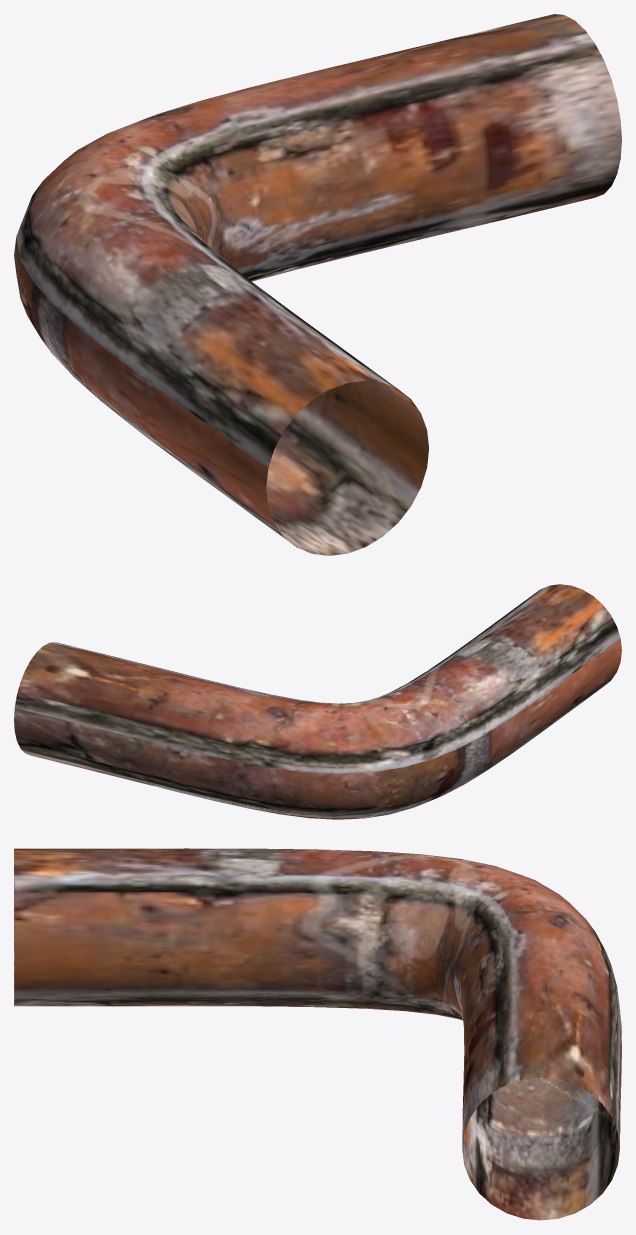
The model's file is Long_Curve_Sewer_01 1.fbx.
The picture shows the model from 3 angles, top to bottom: view 1: azimuth 30°, elevation 25°; view 2: azimuth 150°, elevation 25°; view 3: azimuth 270°, elevation 25°; orthographic projection. The views are drawn at different scales.
Parts seen in each view (by area): view 1: BezierCurve.001; view 2: BezierCurve.001; view 3: BezierCurve.001.
Boxes of the visible parts, <box> form: BezierCurve.001: <box>14,14,621,555</box>; BezierCurve.001: <box>14,584,621,819</box>; BezierCurve.001: <box>14,848,621,1220</box>.
Bounding box in the file's own units: 3443 × 900 × 3469.
